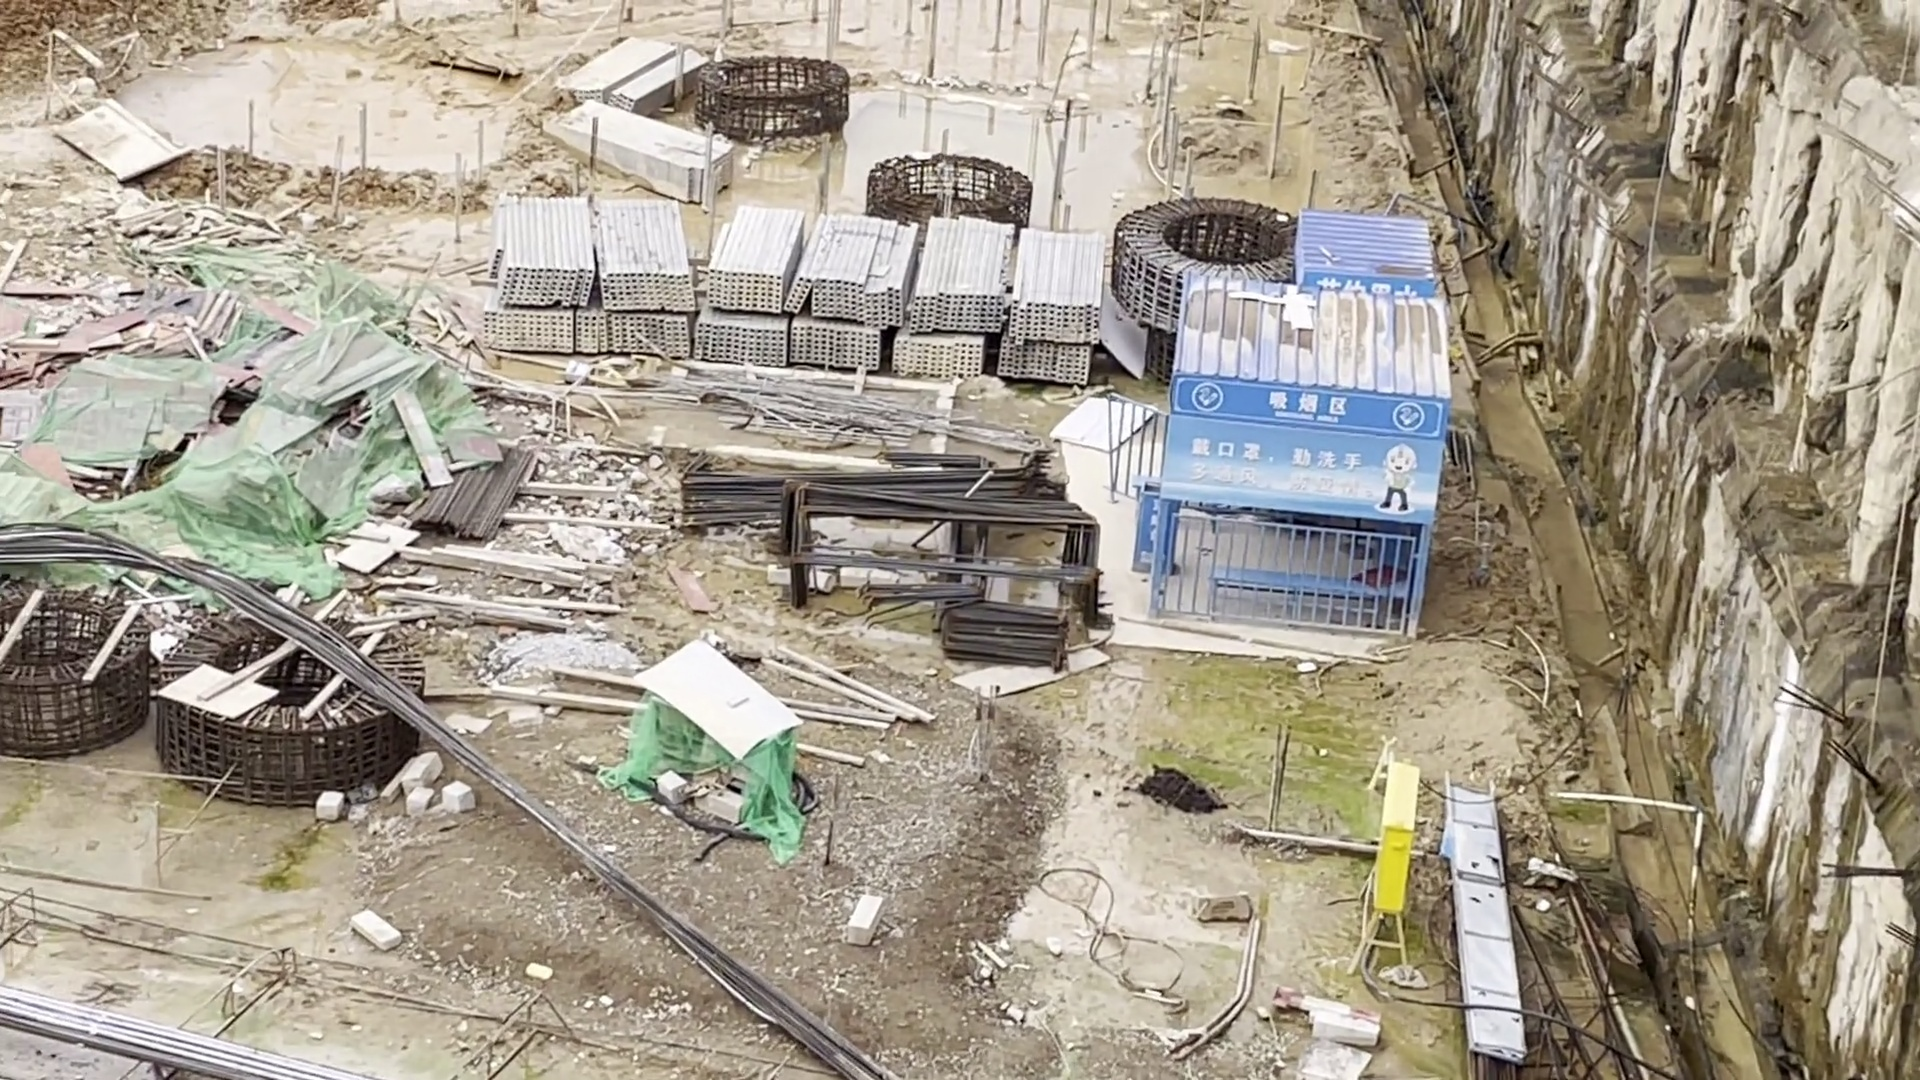board: (29, 287, 375, 459)
ebox: (1361, 750, 1429, 978)
rebar: (26, 992, 324, 1080)
scaffold: (477, 196, 1125, 381), (550, 40, 746, 196)
slogan: (1170, 380, 1429, 509)
